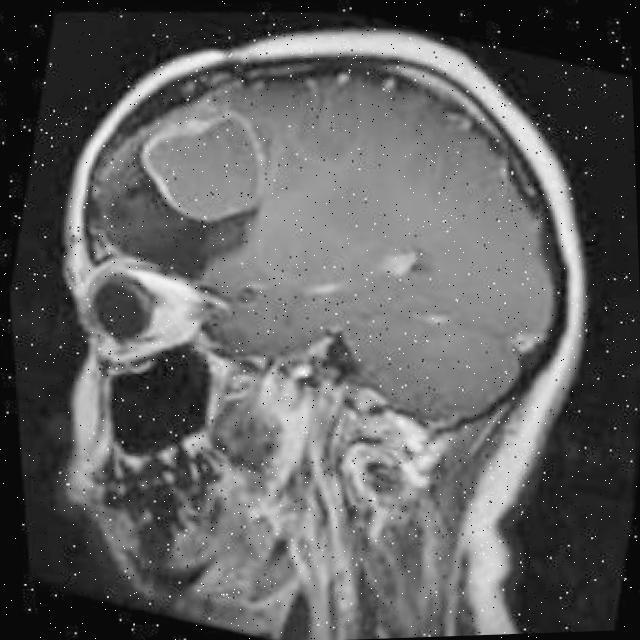MCI: (106, 80, 292, 250)
